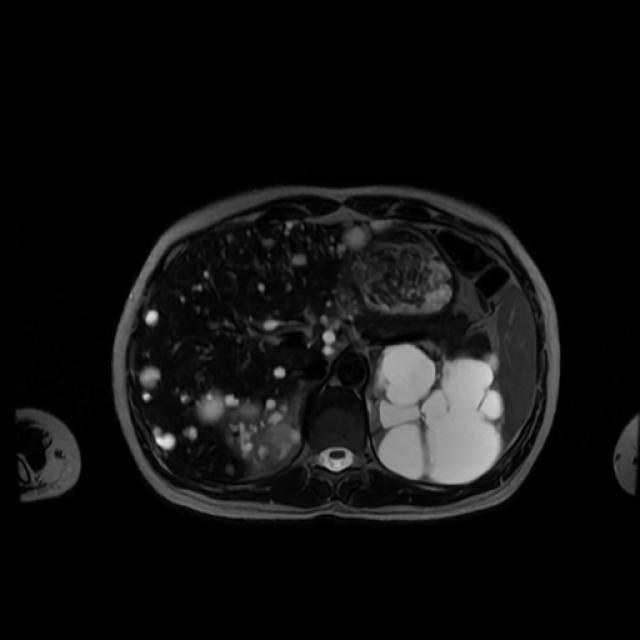sag: (228, 400, 301, 463)
sol: (367, 342, 506, 482)
